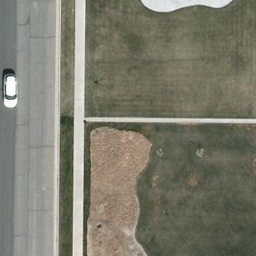car: (1, 73, 20, 110)
